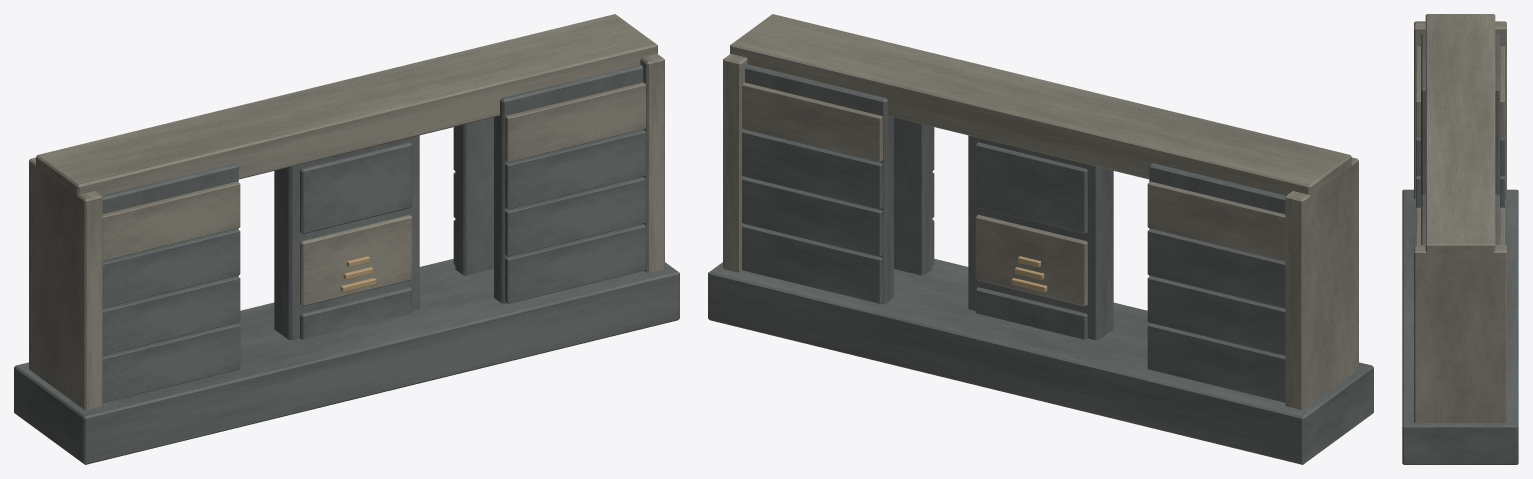
Rendered from shaft-entry-v01.glb.
3 renders of one model, left to right at view 1: azimuth 30°, elevation 25°; view 2: azimuth 150°, elevation 25°; view 3: azimuth 270°, elevation 25°, orthographic. The views are drawn at different scales.
Parts seen in each view (by area): view 1: Outer pocket pier.002, Pocket facing stone.021, Door landing foundation.001, Inset carved stone tablet.006, Inset carved stone tablet.007; view 2: Outer pocket pier.002, Pocket facing stone.021, Door landing foundation.001, Inset carved stone tablet.006, Inset carved stone tablet.007; view 3: Outer pocket pier.002, Door landing foundation.001, Pocket facing stone.021.
Boxes of the visible parts, box(x1,y1,x2,y2) form: Outer pocket pier.002: box(29, 14, 664, 409); Pocket facing stone.021: box(102, 64, 645, 402); Door landing foundation.001: box(14, 259, 679, 464); Inset carved stone tablet.006: box(274, 135, 419, 340); Inset carved stone tablet.007: box(300, 215, 412, 306); Outer pocket pier.002: box(723, 14, 1358, 409); Pocket facing stone.021: box(742, 64, 1285, 402); Door landing foundation.001: box(708, 259, 1373, 464); Inset carved stone tablet.006: box(968, 135, 1113, 340); Inset carved stone tablet.007: box(975, 215, 1087, 306); Outer pocket pier.002: box(1414, 14, 1506, 422); Door landing foundation.001: box(1402, 189, 1518, 464); Pocket facing stone.021: box(1416, 33, 1504, 244).
Size of the model in its own units: 9.65 by 4.14 by 2.
Materials: 4 (3 with a texture image).
